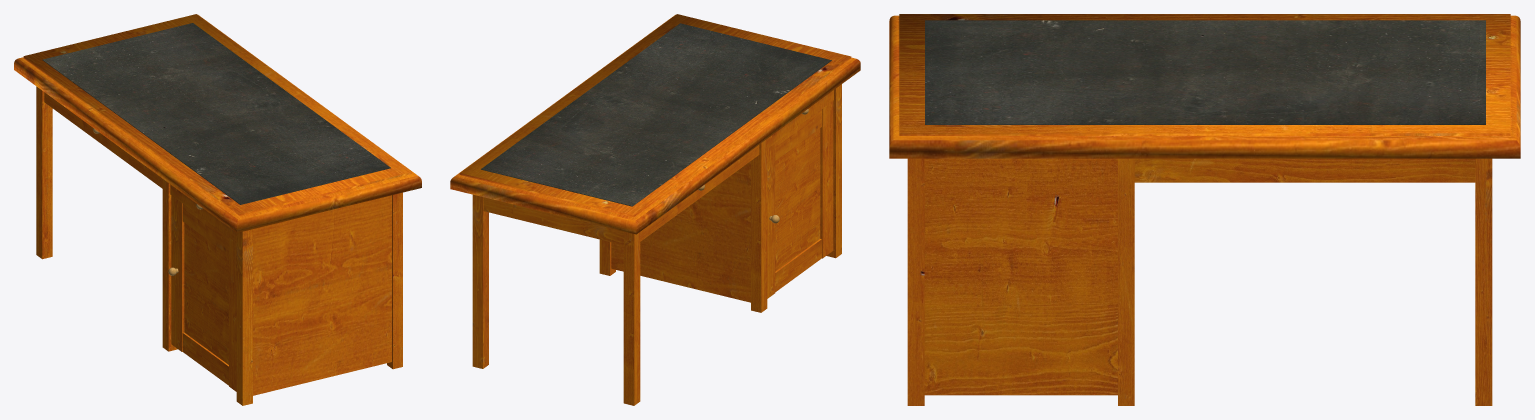
File: Table.fbx
3 views of the same model, side by side, from view 1: azimuth 30°, elevation 25°; view 2: azimuth 150°, elevation 25°; view 3: azimuth 270°, elevation 25° (orthographic). The views are drawn at different scales.
Parts seen in each view (by area): view 1: Cube.036; view 2: Cube.036; view 3: Cube.036.
Part boxes in pixels (x1,y1,x2,y2): Cube.036: [14, 14, 421, 405]; Cube.036: [450, 14, 860, 405]; Cube.036: [889, 14, 1520, 405].
Size of the model in its own units: 224 by 226 by 467.
